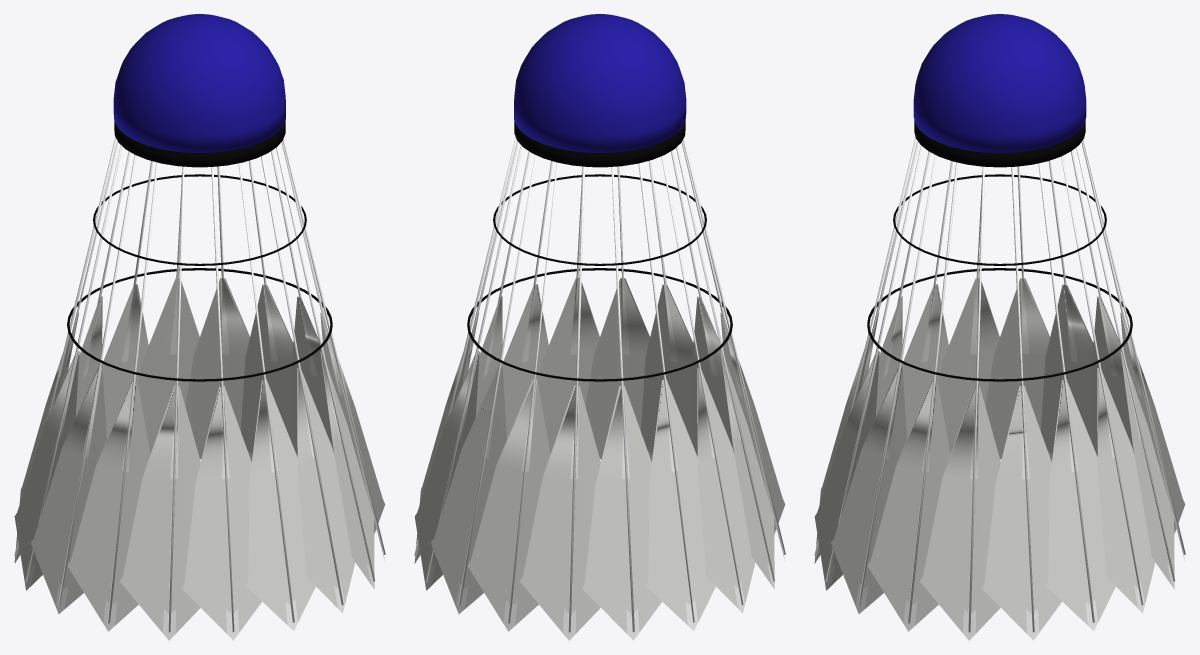
The model's file is Badminton2.glb.
3 views of the same model, side by side, from view 1: azimuth 30°, elevation 25°; view 2: azimuth 150°, elevation 25°; view 3: azimuth 270°, elevation 25° (orthographic).
Parts seen in each view (by area): view 1: Torus.001; view 2: Torus.001; view 3: Torus.001.
Boxes of the visible parts, box(x1,y1,x2,y2) form: Torus.001: box(14, 14, 385, 640); Torus.001: box(414, 14, 785, 640); Torus.001: box(814, 14, 1185, 640).
Size of the model in its own units: 2.28 by 3.69 by 2.29.
